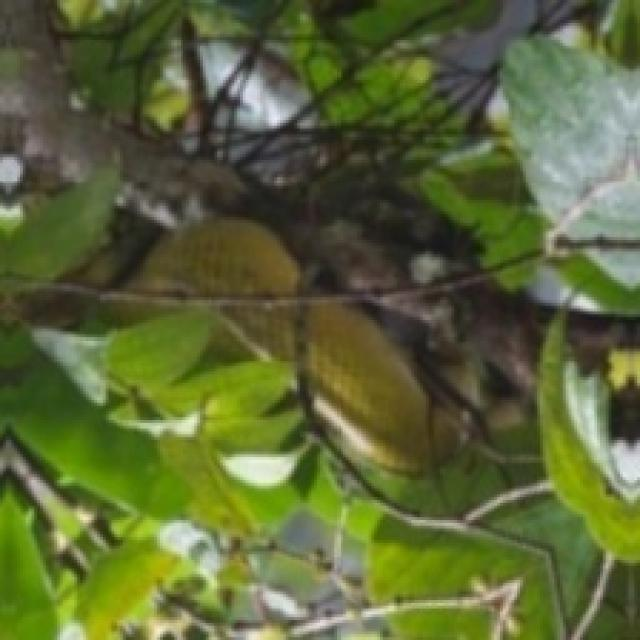red-tailed green ratsnake: (226, 301, 462, 473), (140, 217, 297, 294), (148, 222, 298, 294)
